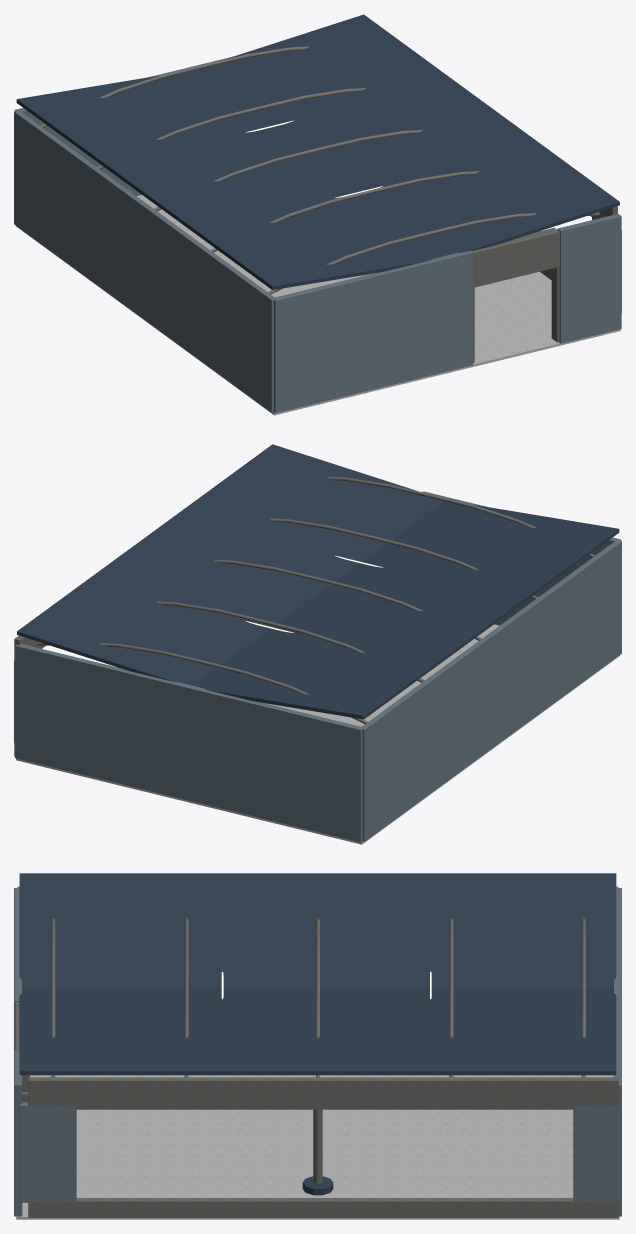
File: arkship-lite.glb
3 renders of one model, top to bottom at view 1: azimuth 30°, elevation 25°; view 2: azimuth 150°, elevation 25°; view 3: azimuth 270°, elevation 25°, orthographic. The views are drawn at different scales.
Parts seen in each view (by area): view 1: Starboard vaulted ceiling, Port vaulted ceiling, Port pressure hull, Aft bulkhead port, Arkship library deck, Aft bulkhead starboard, Aft transfer header, Vault pressure rib 12.2, Vault pressure rib 0, Vault pressure rib -6.15, Vault pressure rib 6.05, Vault pressure rib -12.25 (+2 smaller); view 2: Starboard vaulted ceiling, Forward navigation bulkhead, Port vaulted ceiling, Port pressure hull, Arkship library deck, Vault pressure rib -12.25, Vault pressure rib 0, Vault pressure rib -6.15, Vault pressure rib 6.05, Vault pressure rib 12.2, Aft bulkhead port; view 3: Port vaulted ceiling, Starboard vaulted ceiling, Arkship library deck, Starboard observation header, Starboard observation sill, Starboard aft window cap, Starboard forward window cap, Forward navigation bulkhead, Aft bulkhead starboard, Aft bulkhead port, Astrogation mast, Vault pressure rib -12.25 (+4 smaller).
Boxes of the visible parts, x1,y1,x2,y2 form: Starboard vaulted ceiling: (192, 14, 619, 255); Port vaulted ceiling: (16, 71, 443, 289); Port pressure hull: (14, 111, 274, 412); Aft bulkhead port: (273, 250, 473, 413); Arkship library deck: (15, 195, 620, 415); Aft bulkhead starboard: (557, 214, 621, 343); Aft transfer header: (472, 227, 559, 287); Vault pressure rib 12.2: (268, 212, 599, 294); Vault pressure rib 0: (154, 130, 422, 211); Vault pressure rib -6.15: (97, 88, 365, 169); Vault pressure rib 6.05: (210, 171, 479, 252); Vault pressure rib -12.25: (40, 46, 309, 127); Starboard vaulted ceiling: (17, 444, 443, 685); Forward navigation bulkhead: (15, 644, 363, 842); Port vaulted ceiling: (192, 501, 619, 719); Port pressure hull: (362, 540, 621, 841); Arkship library deck: (16, 624, 620, 844); Vault pressure rib -12.25: (36, 642, 367, 723); Vault pressure rib 0: (213, 559, 481, 640); Vault pressure rib -6.15: (156, 601, 424, 682); Vault pressure rib 6.05: (269, 518, 537, 599); Vault pressure rib 12.2: (327, 476, 595, 557); Aft bulkhead port: (422, 491, 621, 625); Port vaulted ceiling: (19, 873, 616, 987); Starboard vaulted ceiling: (19, 987, 616, 1075); Arkship library deck: (16, 1075, 619, 1219); Starboard observation header: (28, 1077, 618, 1109); Starboard observation sill: (28, 1198, 618, 1217); Starboard aft window cap: (19, 1102, 76, 1202); Starboard forward window cap: (573, 1105, 618, 1202); Forward navigation bulkhead: (613, 888, 621, 1216); Aft bulkhead starboard: (14, 1050, 22, 1216); Aft bulkhead port: (14, 888, 22, 1050); Astrogation mast: (313, 1109, 322, 1183); Vault pressure rib -12.25: (581, 918, 585, 1077).
Bounding box in the file's own units: 21.79 × 7.75 × 28.02.
Materials: 6 (2 with a texture image).
